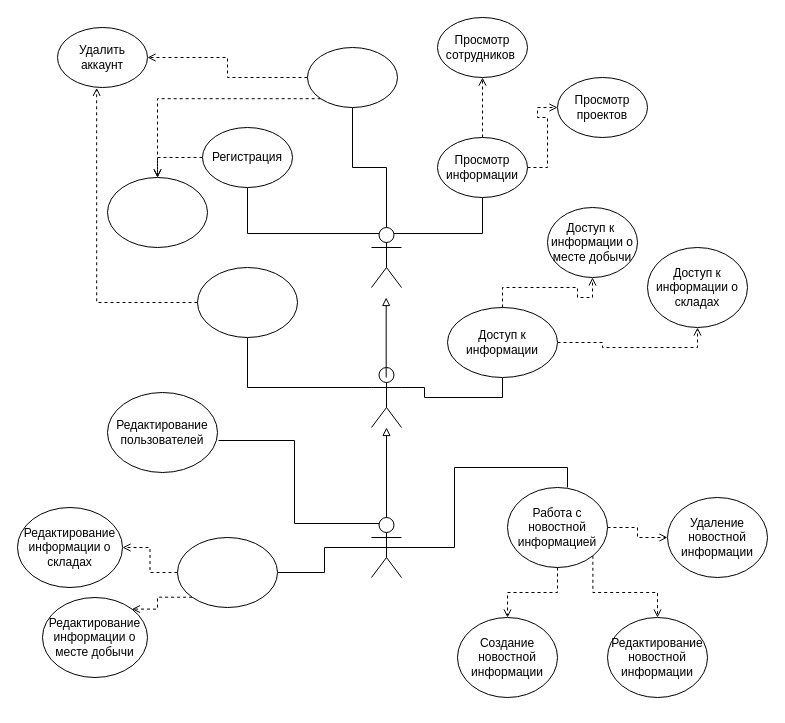
Image size: 785x723. Some labels were removed from this diagram. The shapes that lost their labels are listed below. From the top down, each one's centre as x and y in pixels, then its label:
At point (352, 77): "Логин".
At point (157, 212): "Подтверждение учетной записи".
At point (386, 257): "Гость".
At point (247, 302): "Редактирование профиля".
At point (386, 397): "Аутифицированный".
At point (386, 547): "Админ".
At point (227, 572): "Редактирование информации".
